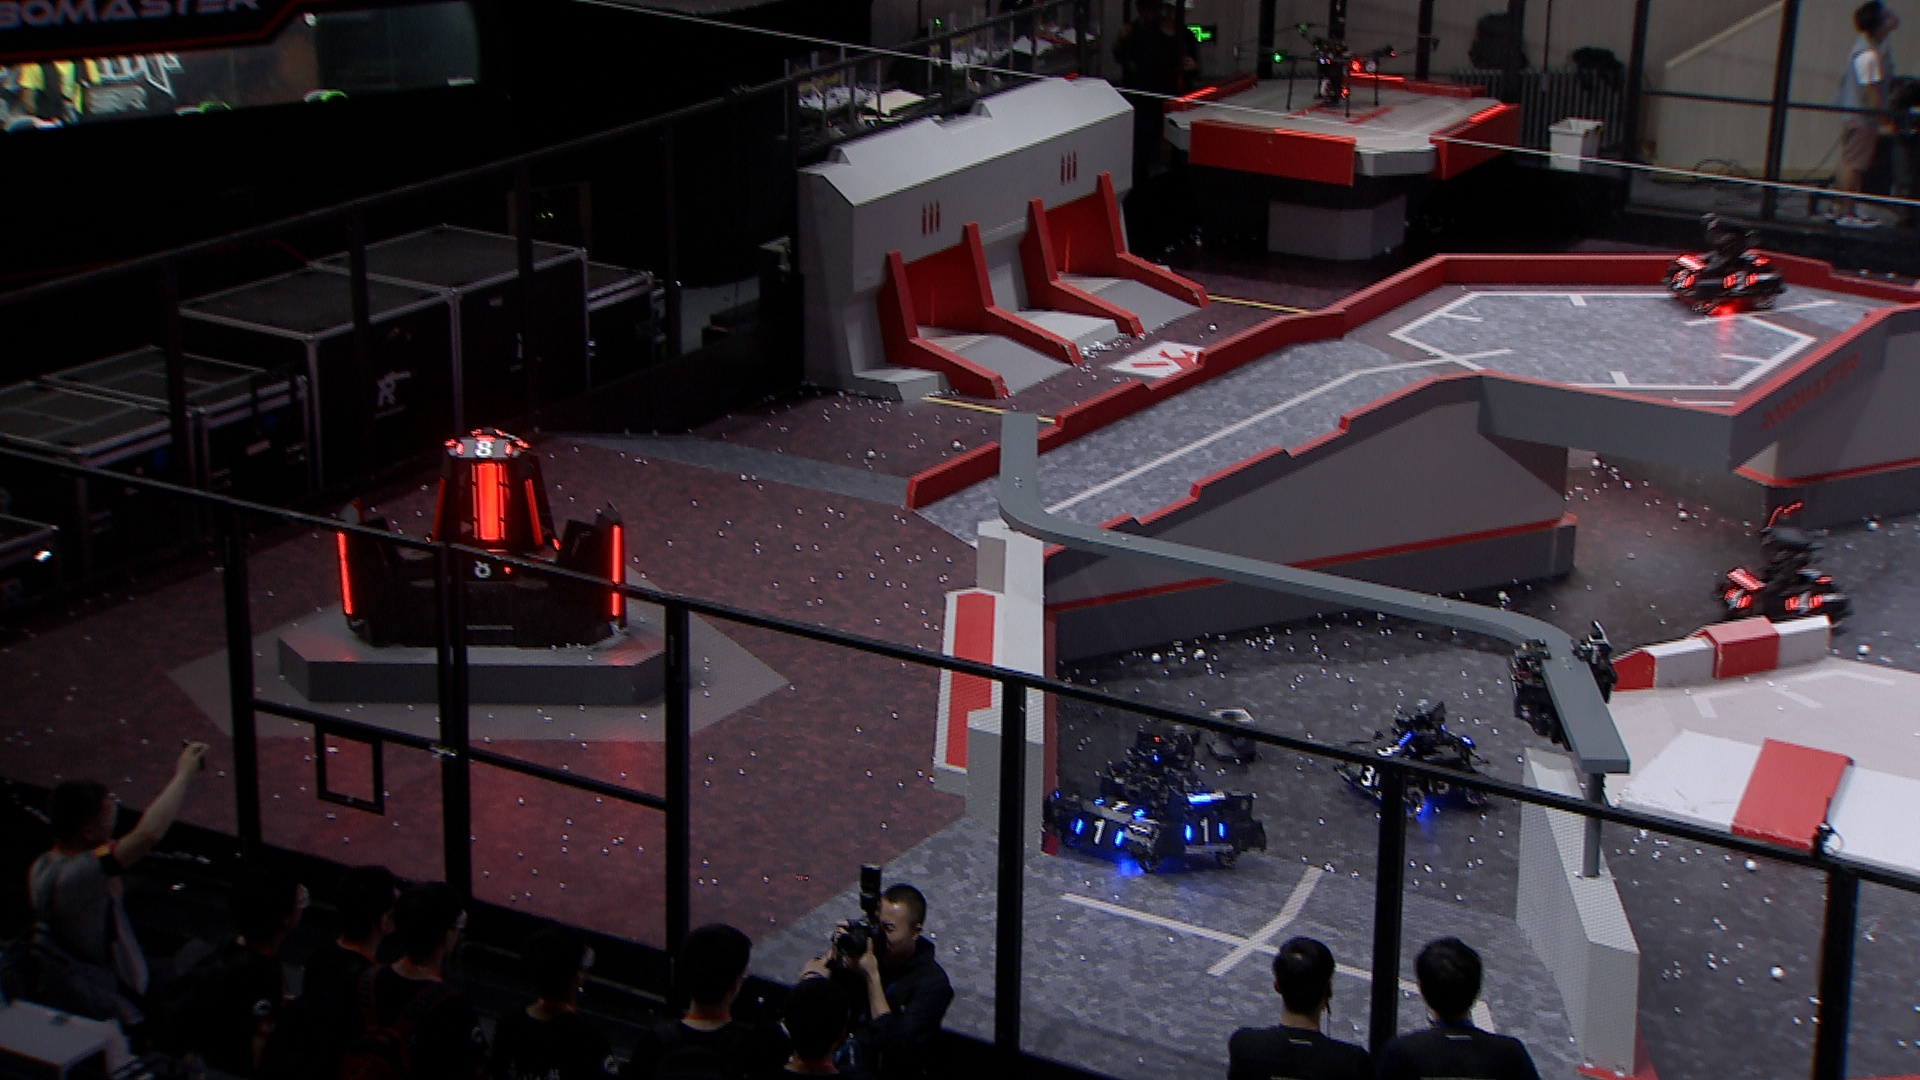armor: (471, 462, 506, 541), (520, 479, 551, 553), (452, 547, 517, 582), (335, 527, 357, 618), (1088, 793, 1147, 823), (607, 527, 626, 617), (1069, 818, 1122, 849), (425, 477, 451, 538), (1183, 815, 1230, 847), (452, 438, 513, 462), (1366, 735, 1410, 764), (1423, 766, 1460, 794), (1780, 589, 1822, 613), (1799, 560, 1837, 585), (1718, 585, 1751, 613), (1352, 761, 1385, 789), (1721, 268, 1754, 290), (1669, 264, 1695, 291), (1741, 248, 1771, 266)
base: (332, 427, 632, 650)
car: (1039, 704, 1280, 874), (1337, 692, 1495, 820), (1716, 522, 1854, 636), (1664, 208, 1792, 316)
watcher: (1509, 617, 1617, 745)
